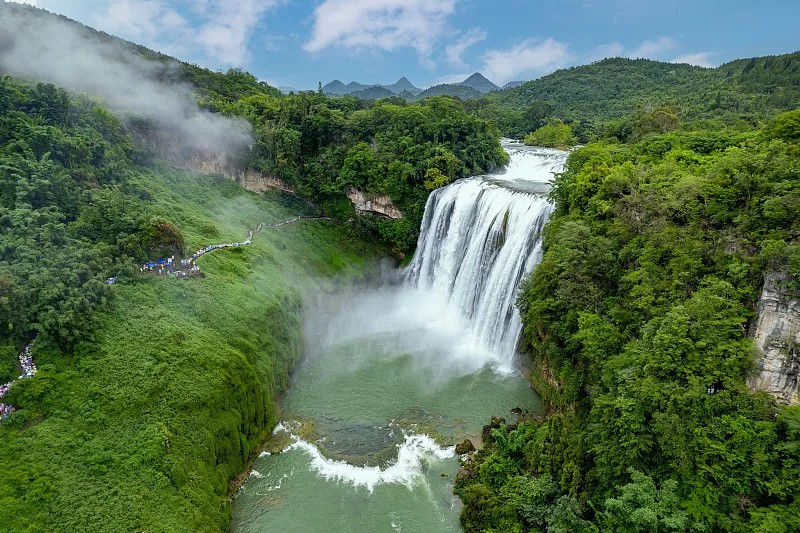Huangguoshu: (408, 149, 569, 364)
